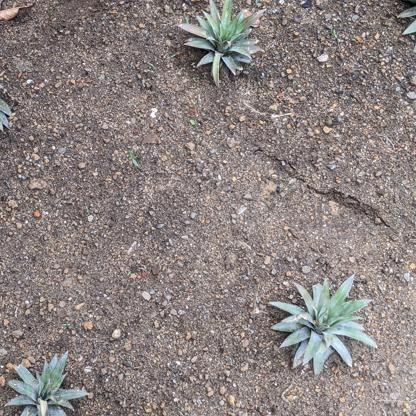pineapple: (267, 272, 377, 379), (176, 2, 265, 88), (2, 350, 89, 416)
